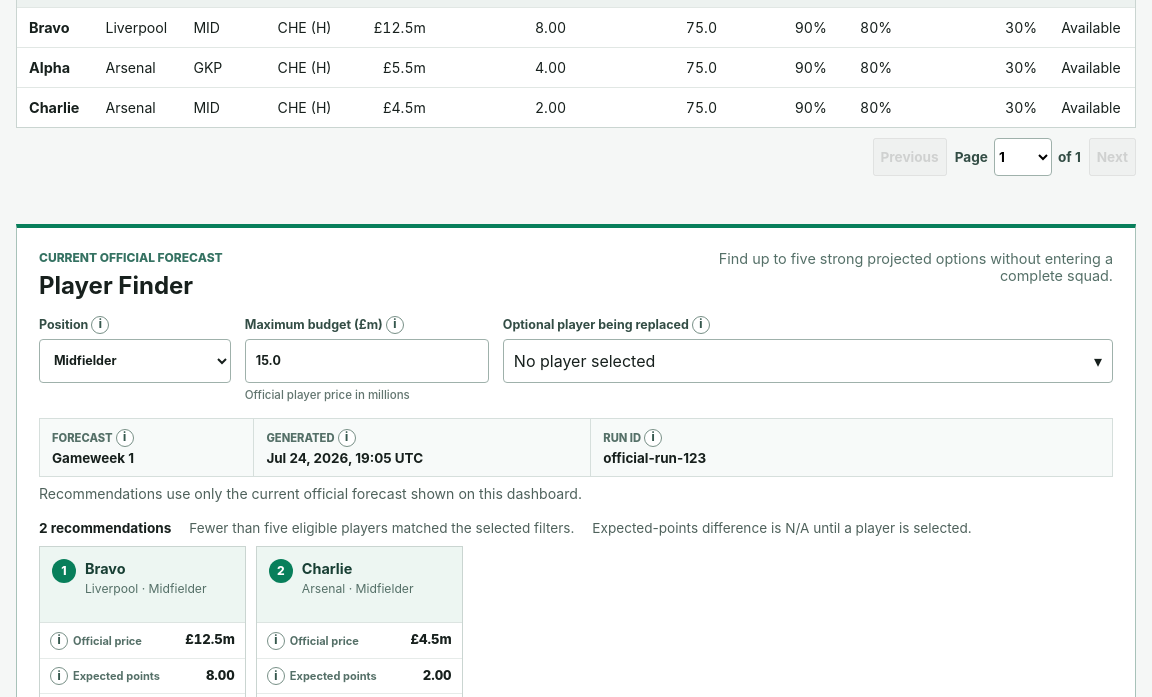
Test case: dashboard interactions › locks replacements to the selected player's position and displays signed differences
(page scrolled)
Expected: the field labelled "Search players" is not shown
Step 1. Click the button named "Optional player being replaced No player selected" → [585, 361], box [503,339,1113,383]
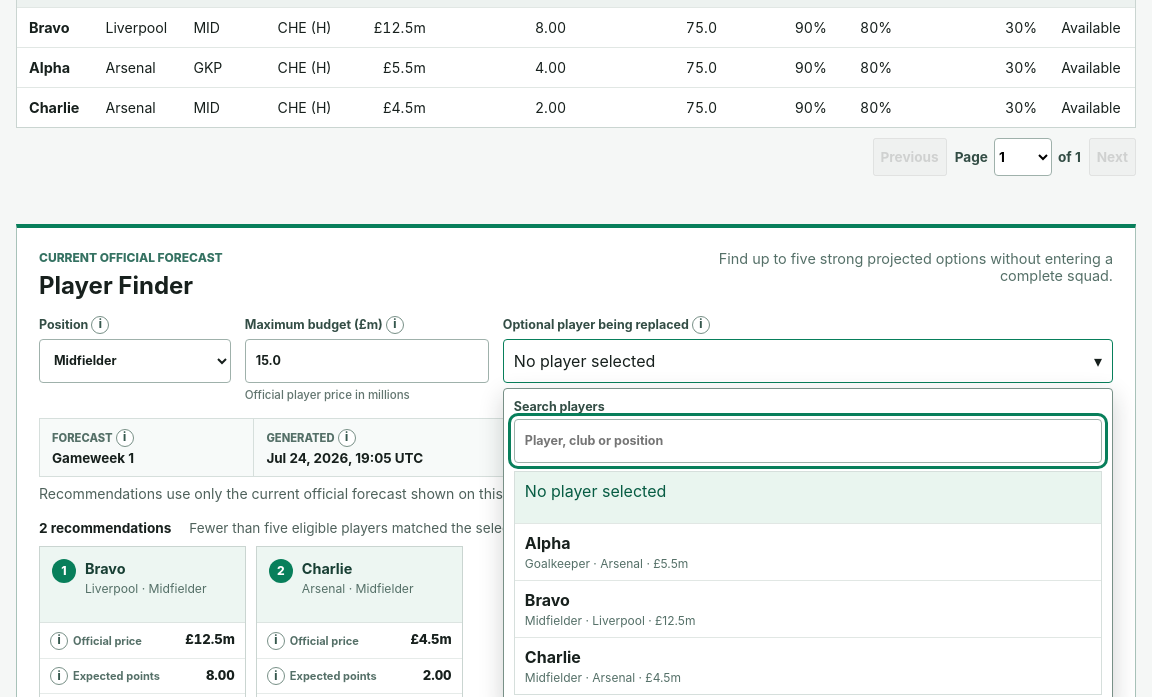
Step 2. Type "Charlie" into the search field labelled "Search players" → [808, 441], box [514,419,1102,463]
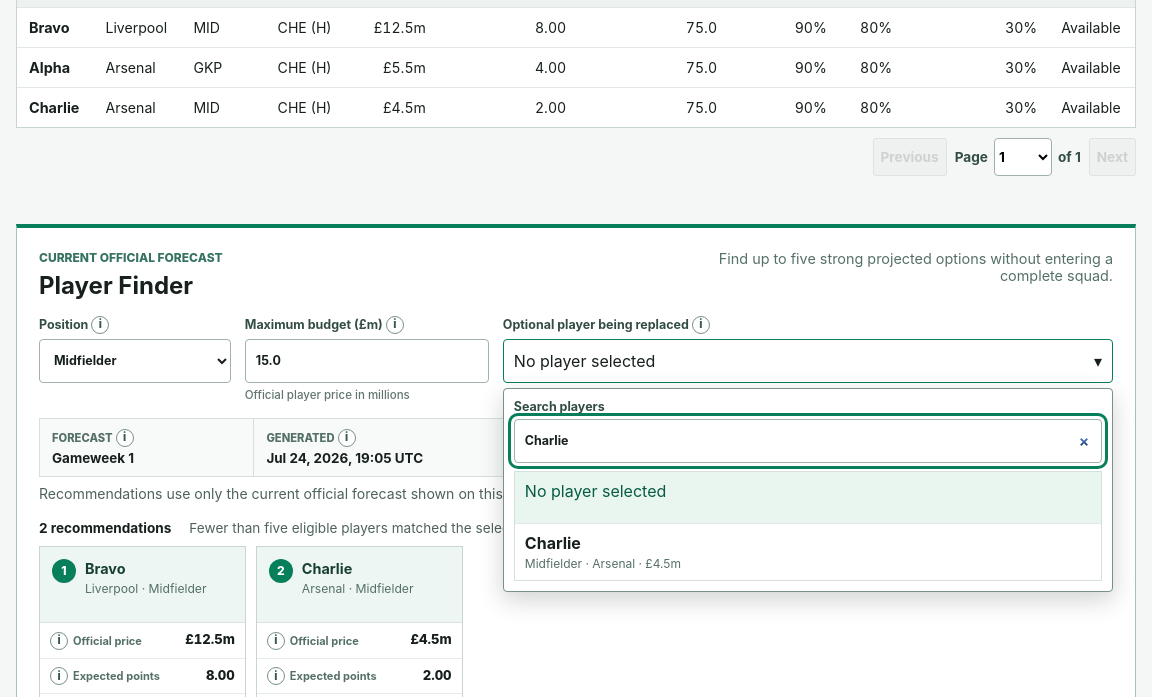
Expected: the option "Charlie Midfielder · Arsenal · £4.5m" is shown
Step 3. Click the option "Charlie Midfielder · Arsenal · £4.5m" → [553, 543], box [515,524,1101,580]
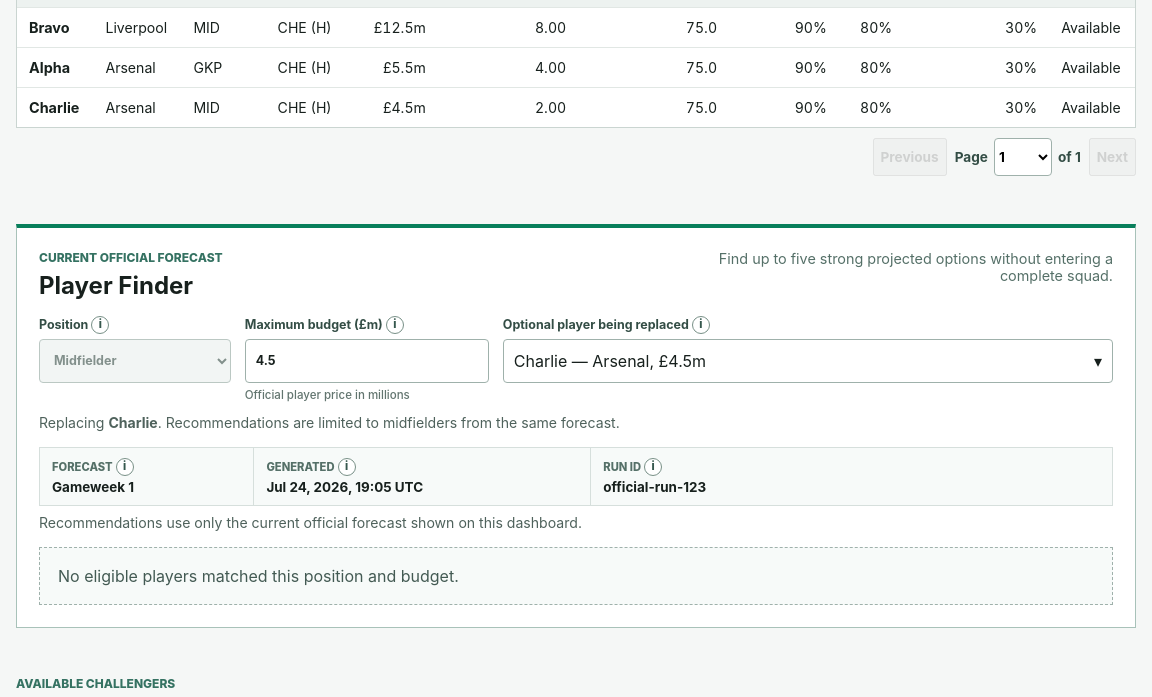
Expected: the dropdown labelled "Position" shows "Midfielder", [39,339,231,383]
Expected: the dropdown labelled "Position" is disabled, [39,339,231,383]
Expected: the field labelled "Maximum budget (£m)" holds "4.5"
Step 4. Replace the text in the field labelled "Maximum budget (£m)" with "15.0" → [367, 361], box [245,339,489,383]
(page scrolled)
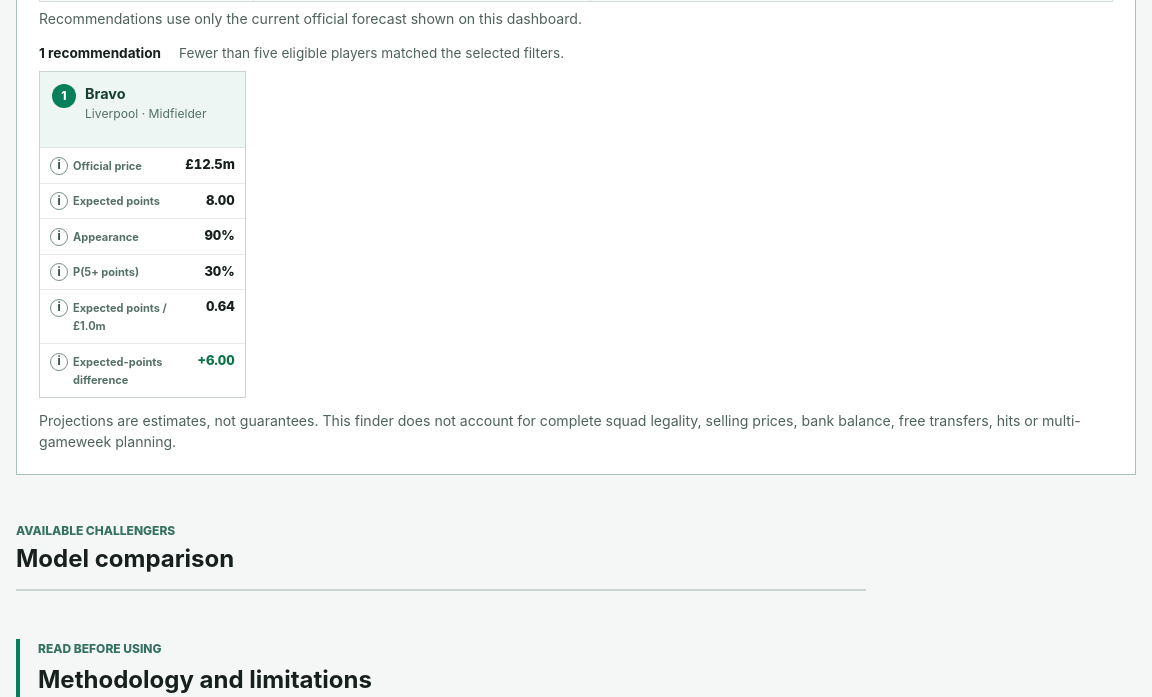
Expected: the heading "Charlie" is not shown
Expected: the text "+6.00" is shown, [197,352,235,368]
